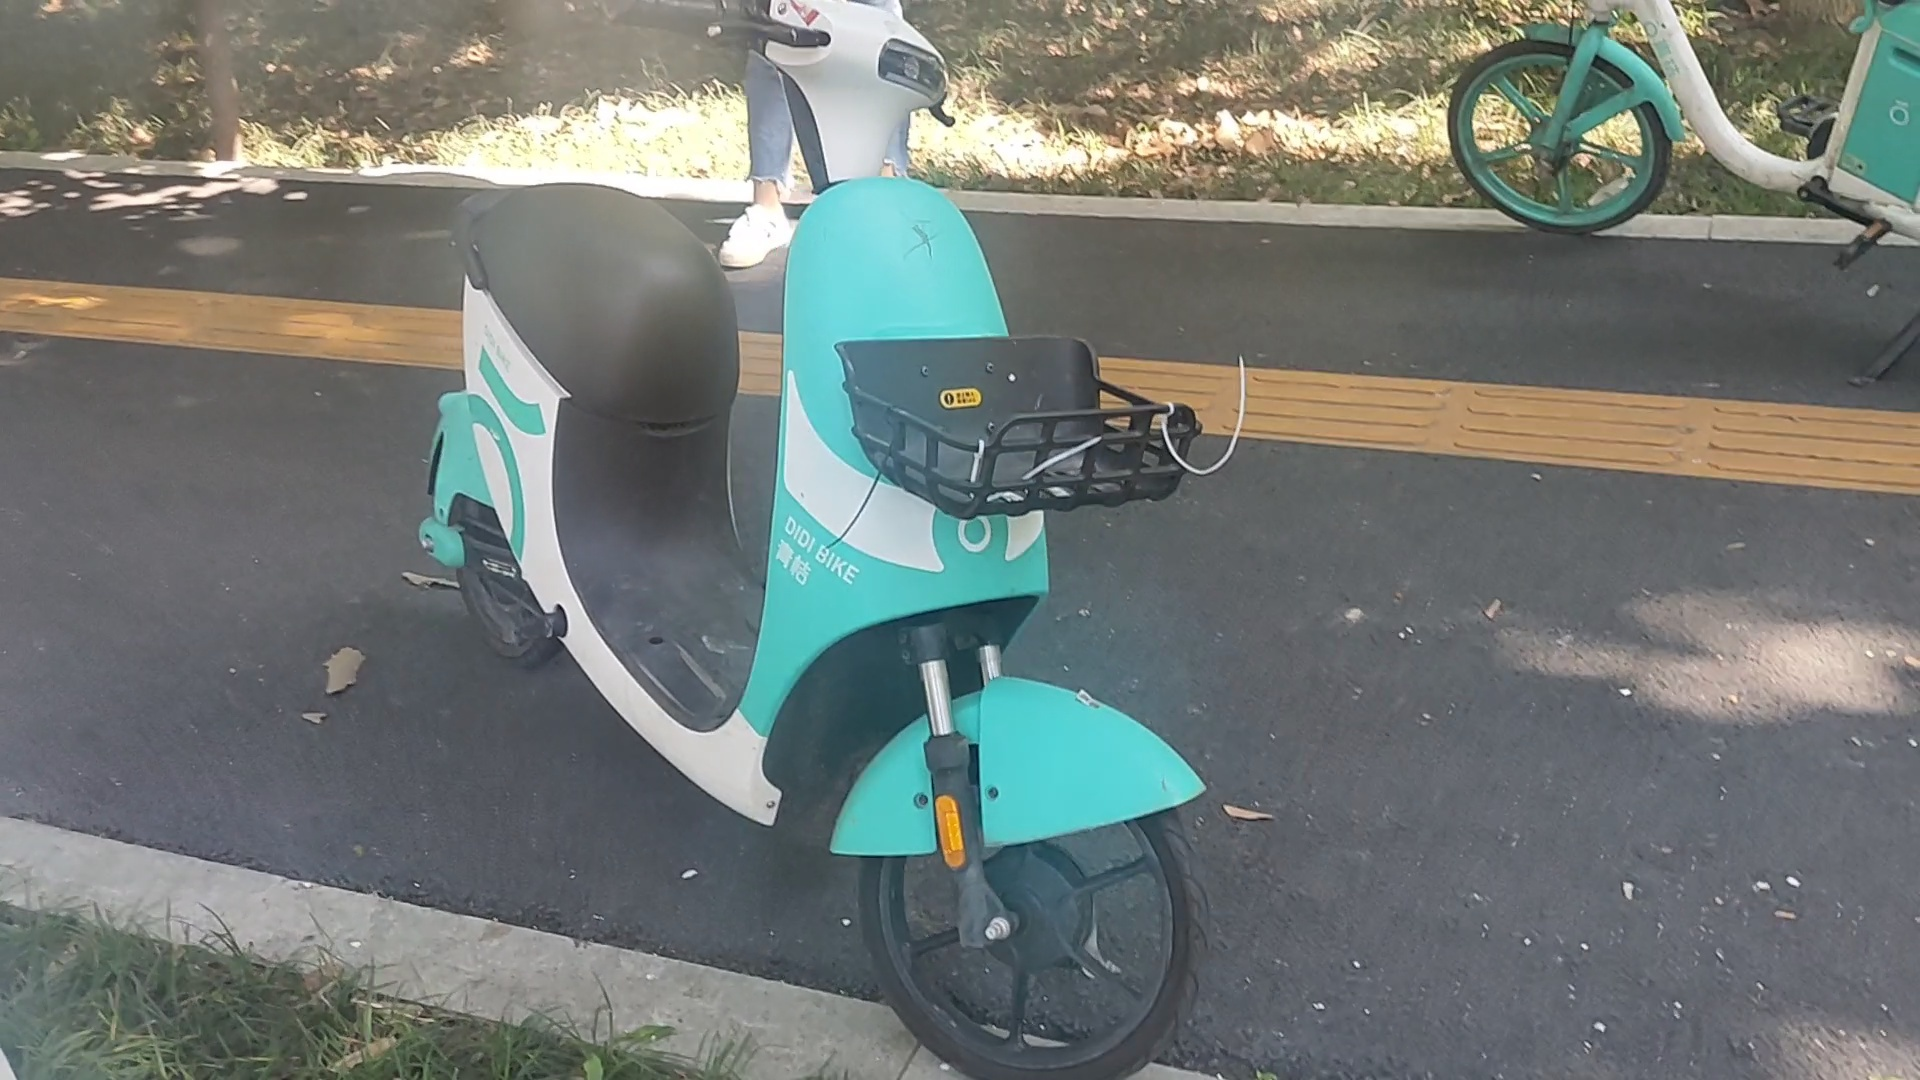non-vehicle: (394, 0, 1218, 1071), (1441, 1, 1916, 401)
